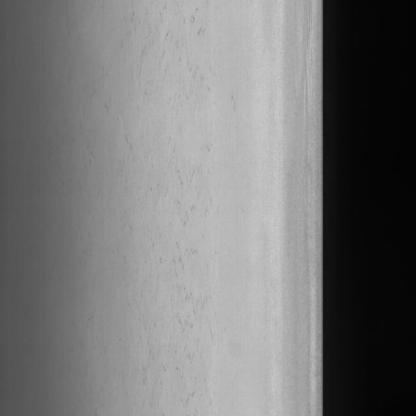silk_spot: (110, 0, 227, 398)
